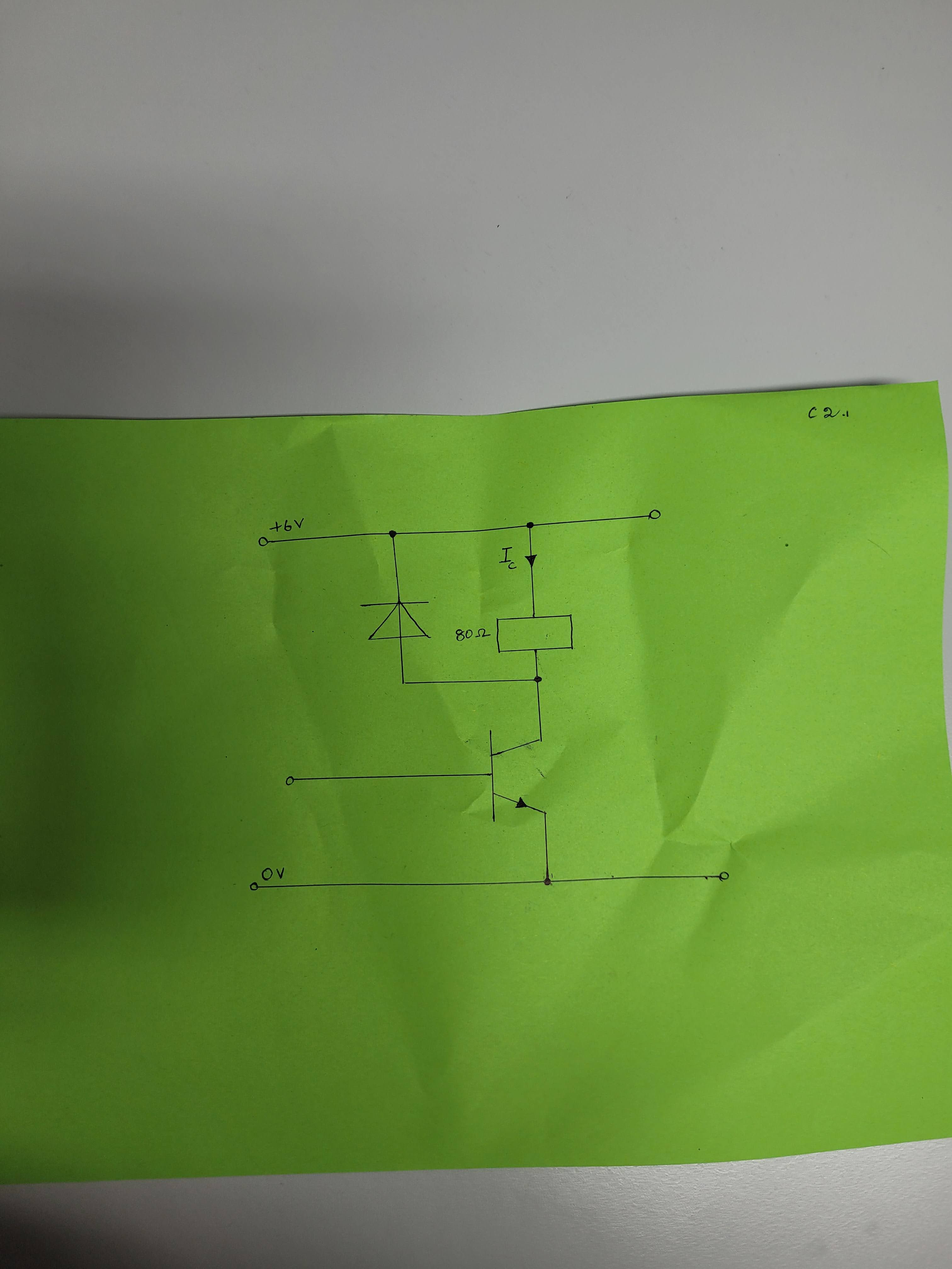diode: (359, 600, 433, 641)
junction: (541, 875, 555, 888), (386, 528, 399, 540), (523, 519, 536, 531), (531, 674, 544, 685), (398, 677, 409, 688)
resistor: (495, 613, 575, 654)
terminal: (282, 773, 297, 787), (646, 508, 661, 521), (247, 881, 262, 893), (716, 870, 731, 882), (257, 536, 270, 547)
text: (267, 516, 306, 533), (454, 627, 492, 643), (498, 546, 518, 571), (258, 866, 286, 881)
transistor.bjt: (486, 727, 549, 825)
